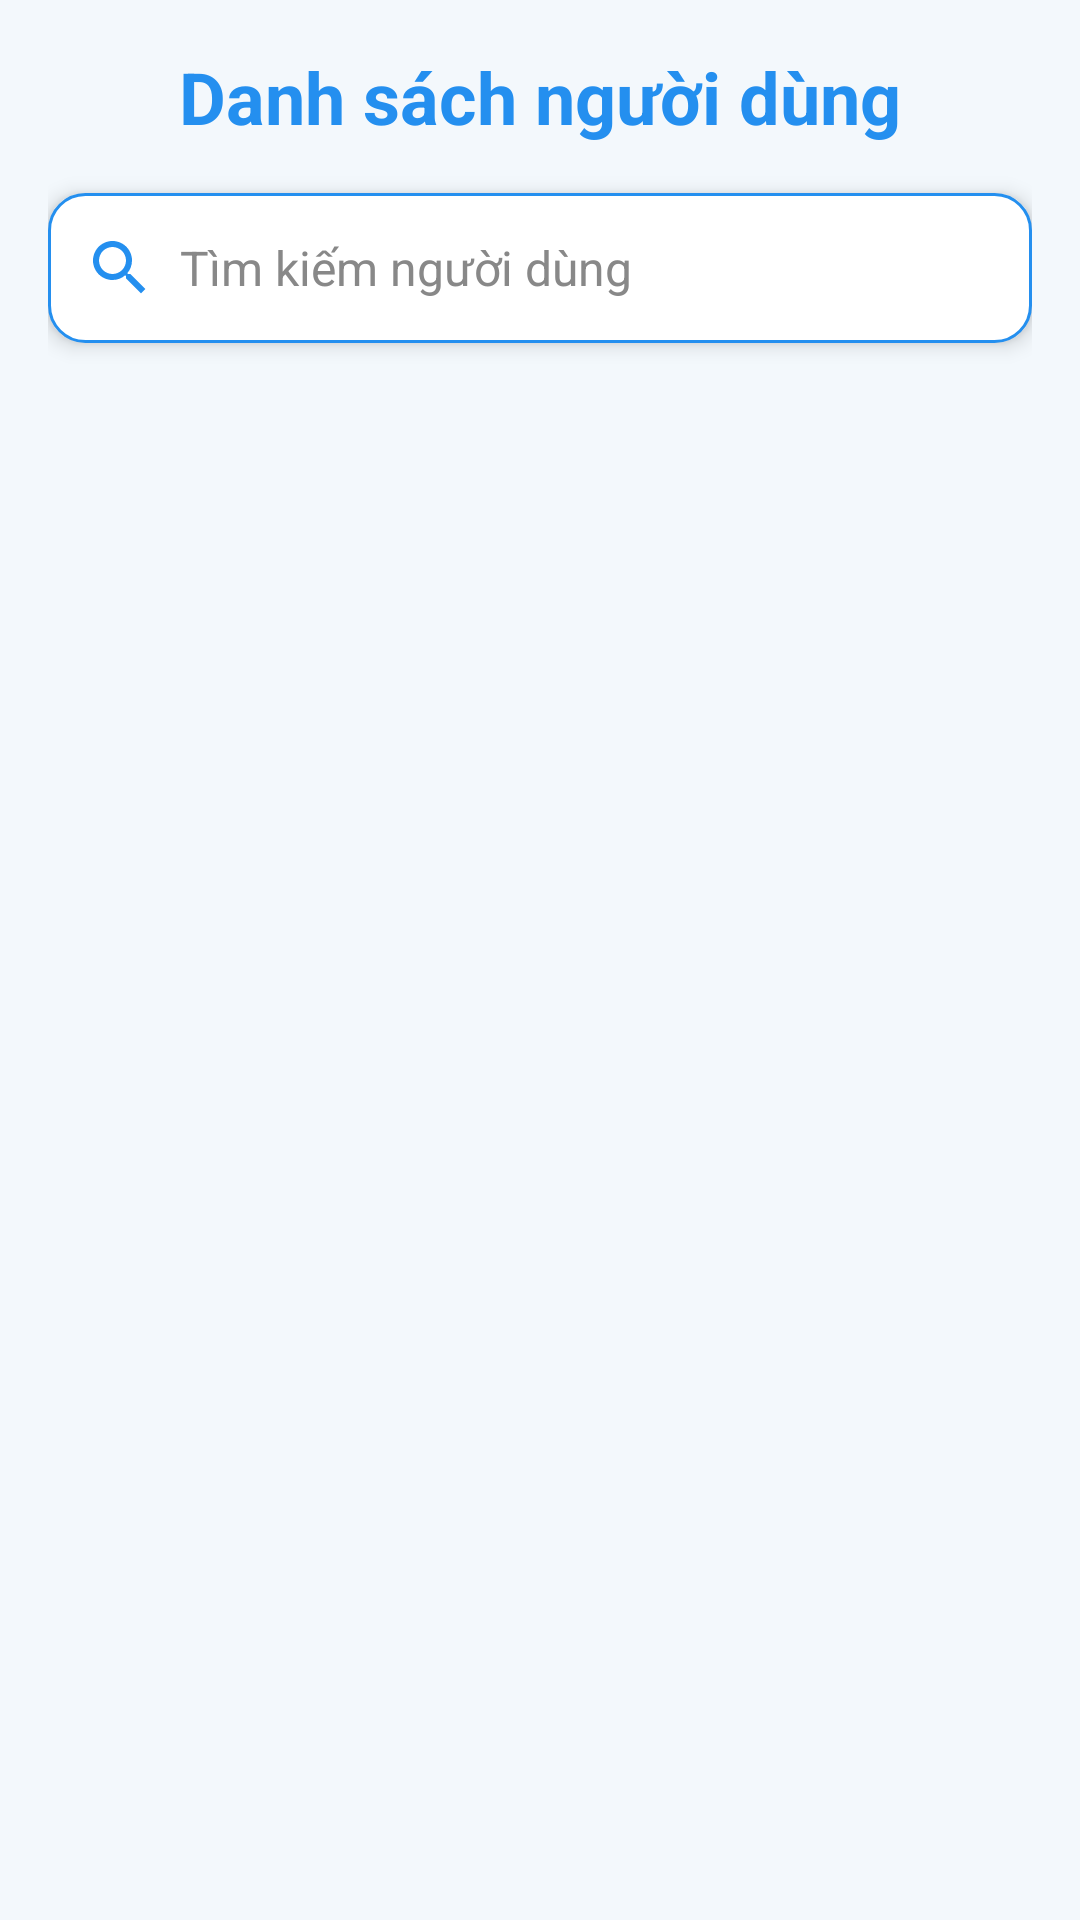

Icon click points for this 1080 × 1920 phone screenshot, format (x,y):
search: (119,267)
